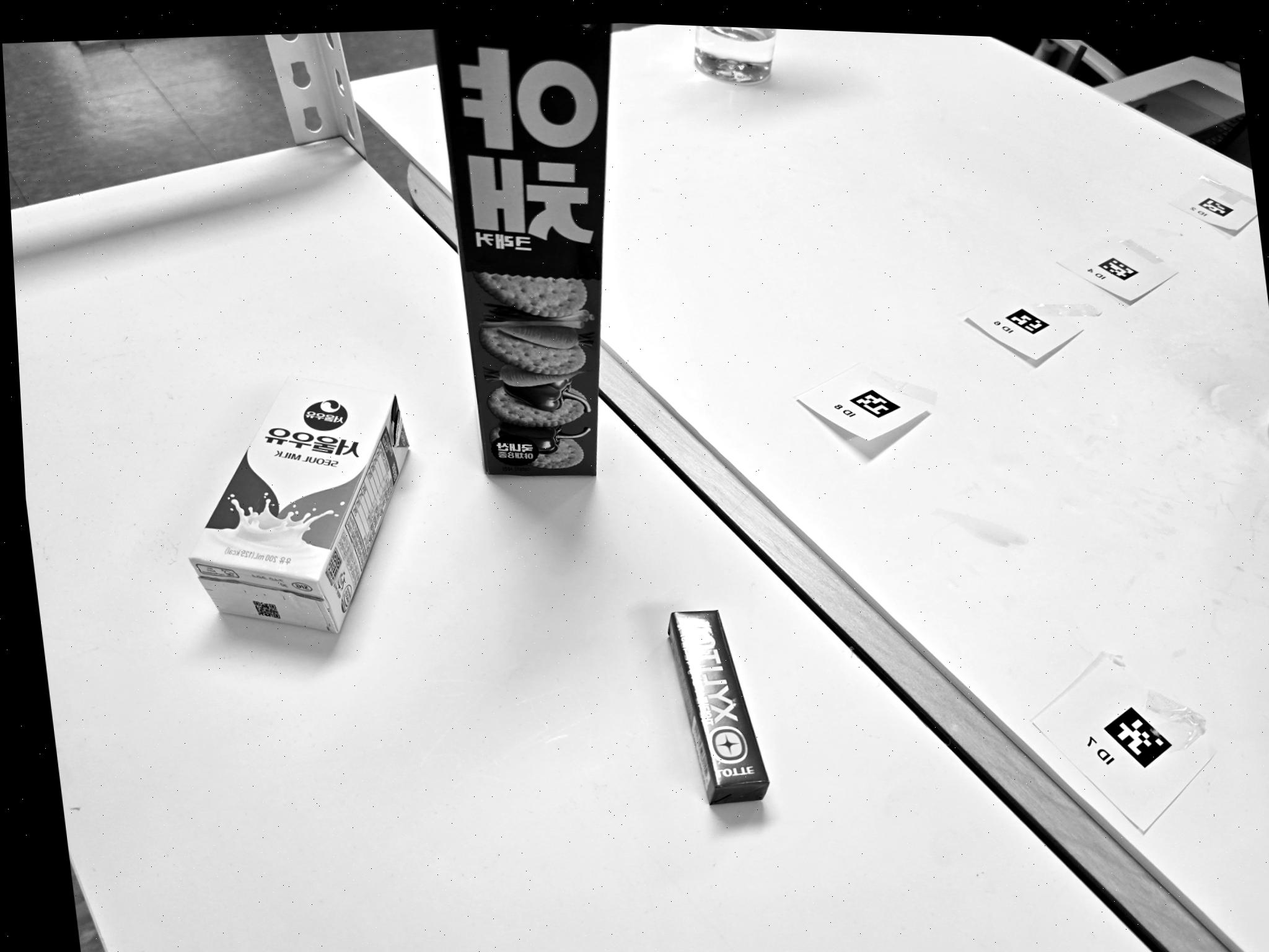cracker_vege: (435, 23, 612, 475)
gum_green: (668, 610, 769, 803)
milk_green: (191, 378, 408, 632)
